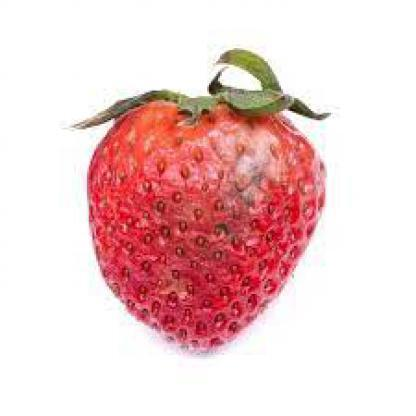strawberry_rotten: (40, 29, 374, 376)
